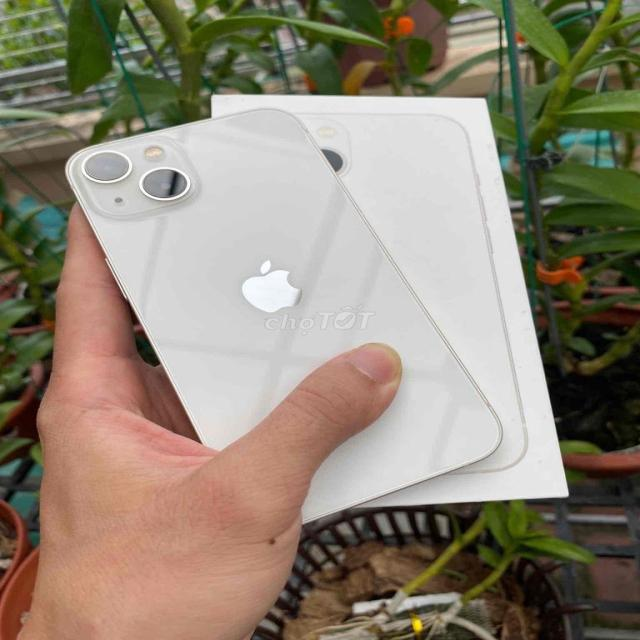gen_12_13: (63, 109, 507, 531)
